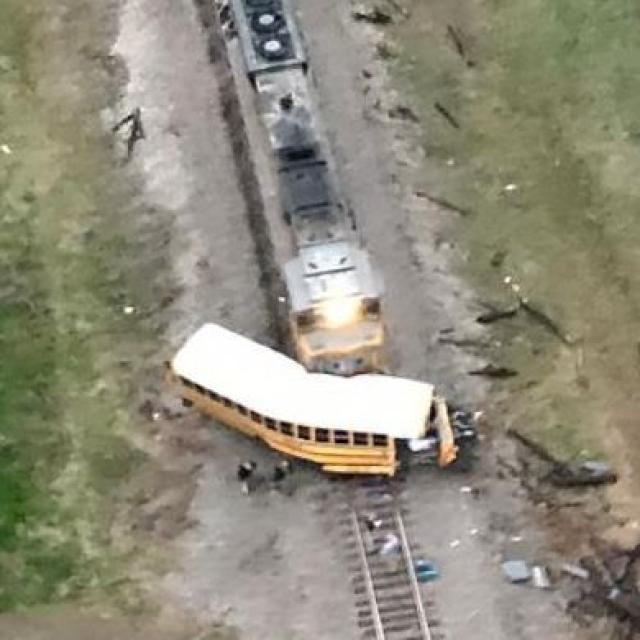traffic_incident: (148, 315, 479, 471)
